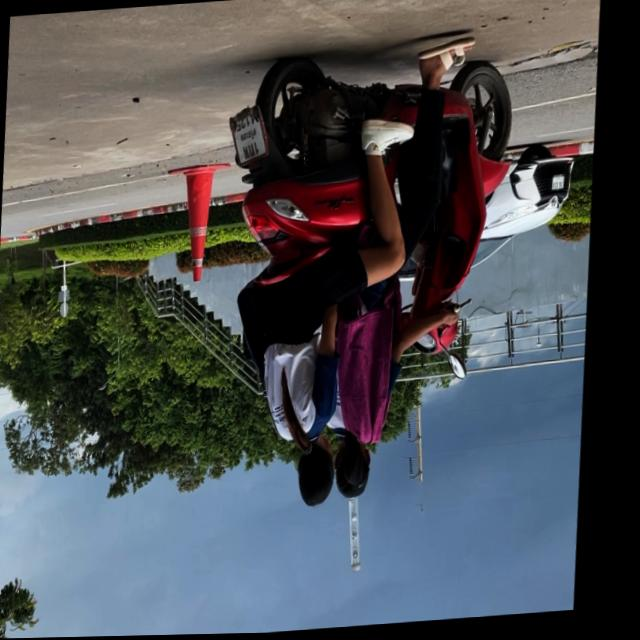seatbelt: (302, 437, 347, 510), (339, 437, 384, 502)
